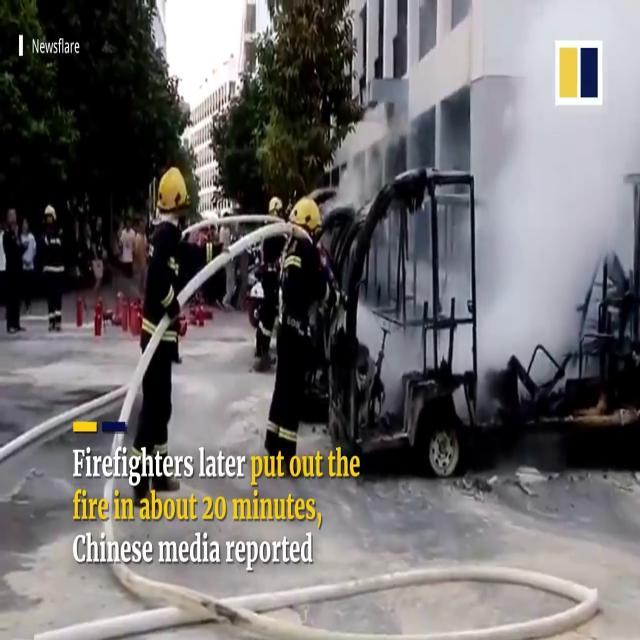Smoke: (432, 0, 639, 377)
